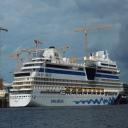cruises: (10, 48, 124, 110)
